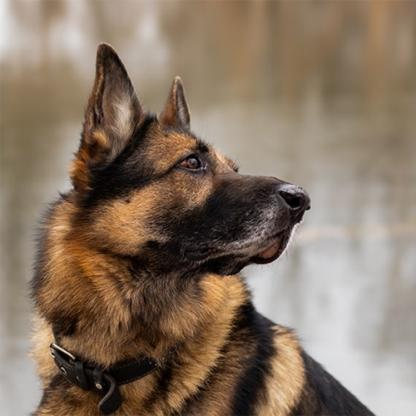german shepherd: (35, 39, 374, 416)
